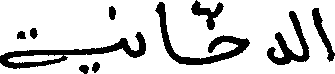ا: (311, 5, 334, 61), (154, 0, 173, 62)
ة: (0, 26, 67, 70)
خ: (204, 0, 248, 64)
د: (266, 9, 290, 65)
ل: (287, 8, 309, 64)
ن: (109, 6, 146, 58)
ي: (77, 35, 128, 73)
